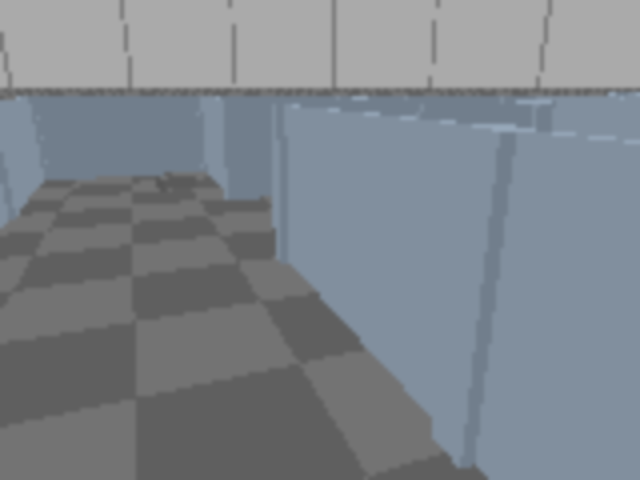obstacle: (154, 172, 198, 191)
